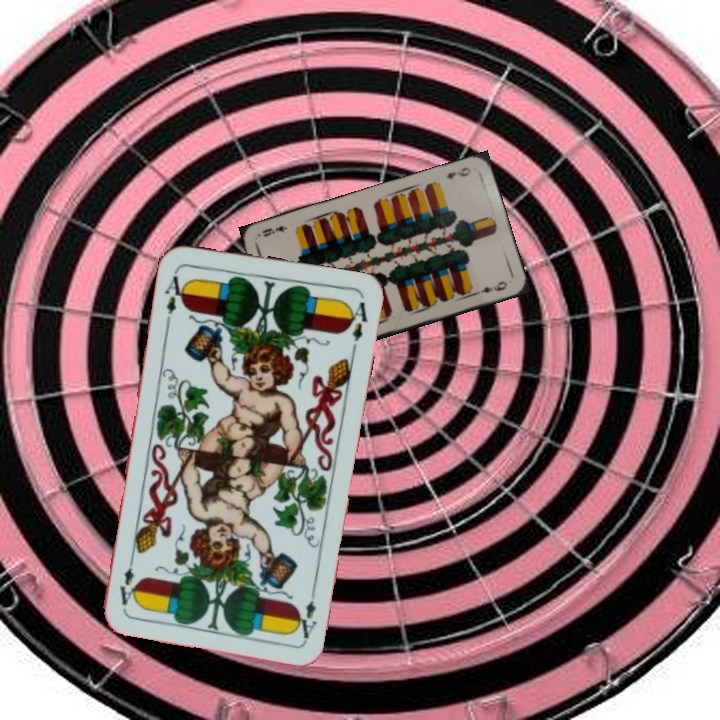E9: (442, 163, 473, 182)
EA: (292, 583, 320, 641), (160, 266, 190, 317)
